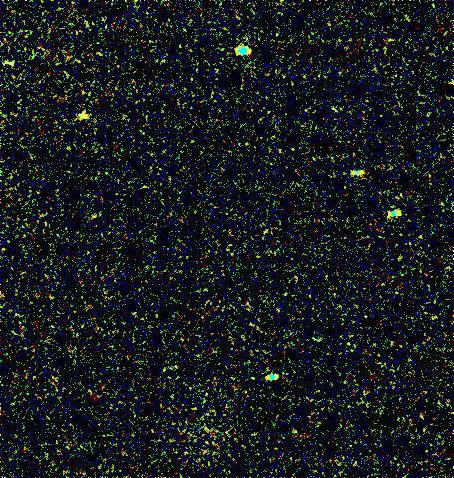star: (69, 94, 99, 124)
